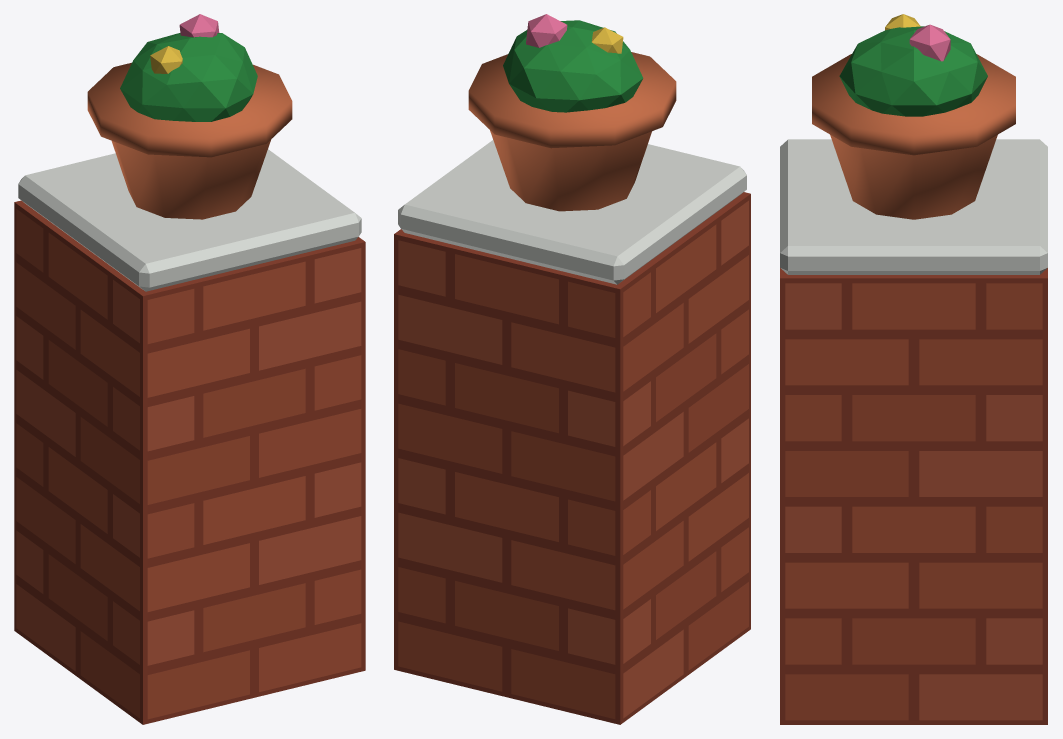
Rendered from greenhouse-post.glb.
The picture shows the model from 3 angles, left to right: view 1: azimuth 30°, elevation 25°; view 2: azimuth 150°, elevation 25°; view 3: azimuth 270°, elevation 25°; orthographic projection. The views are drawn at different scales.
Visible parts, largest first — view 1: greenhouse-post; view 2: greenhouse-post; view 3: greenhouse-post.
Boxes of the visible parts, x1,y1,x2,y2 form: greenhouse-post: [14, 14, 365, 724]; greenhouse-post: [394, 14, 750, 724]; greenhouse-post: [780, 14, 1047, 724].
Bounding box in the file's own units: 0.5024 × 1.34 × 0.5024.
